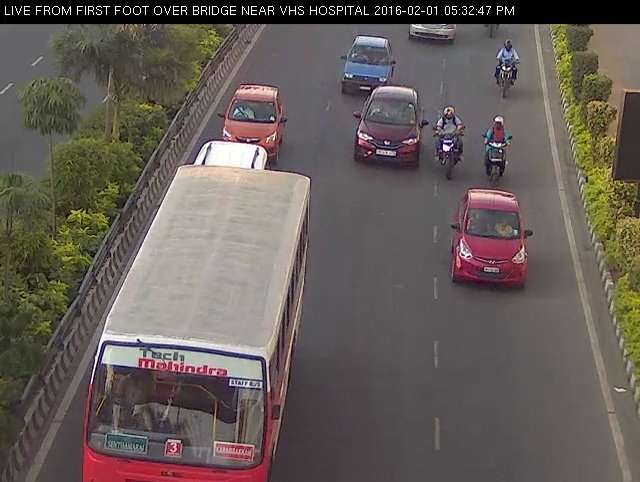Bus: (63, 152, 330, 481)
Car: (437, 179, 544, 298), (343, 84, 431, 178), (182, 130, 276, 206), (214, 79, 293, 156), (328, 24, 399, 94), (400, 18, 459, 49)
Person: (471, 104, 524, 193), (426, 96, 470, 188), (485, 27, 525, 110)
